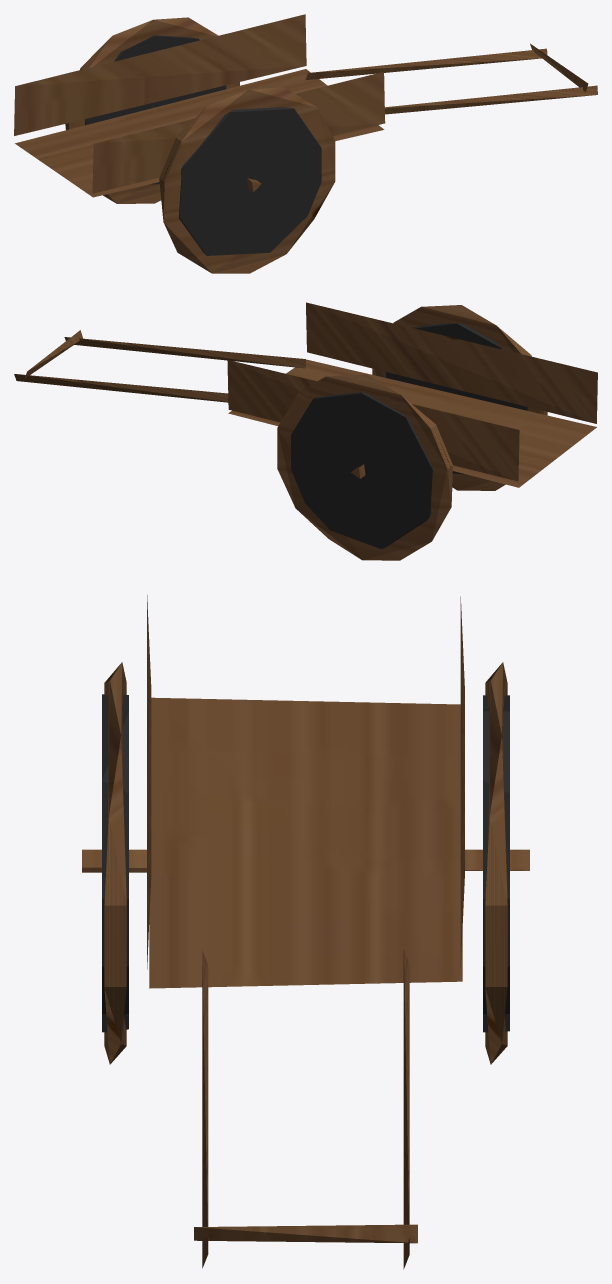
File: arba_cart_lod1.glb
3 views of the same model, one above another, from view 1: azimuth 30°, elevation 25°; view 2: azimuth 150°, elevation 25°; view 3: azimuth 270°, elevation 25° (orthographic). The views are drawn at different scales.
Parts seen in each view (by area): view 1: m; view 2: m; view 3: m.
Boxes of the visible parts, x1,y1,x2,y2 form: m: [14, 14, 597, 273]; m: [14, 302, 597, 560]; m: [82, 595, 529, 1269].
Size of the model in its own units: 5.34 by 1.8 by 2.
2 materials, 1 textured.
